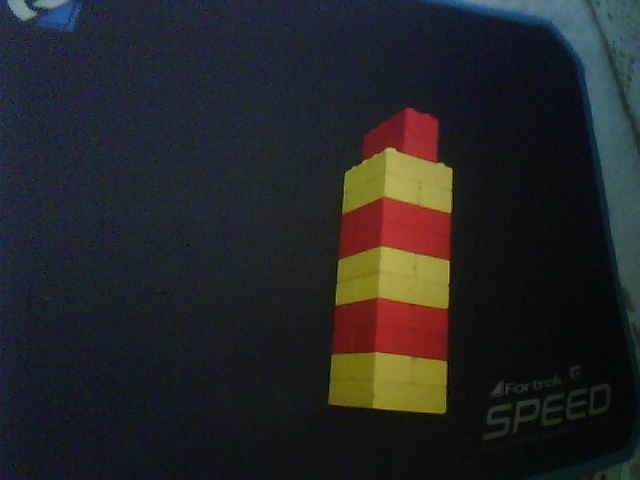lego: (327, 108, 454, 418)
